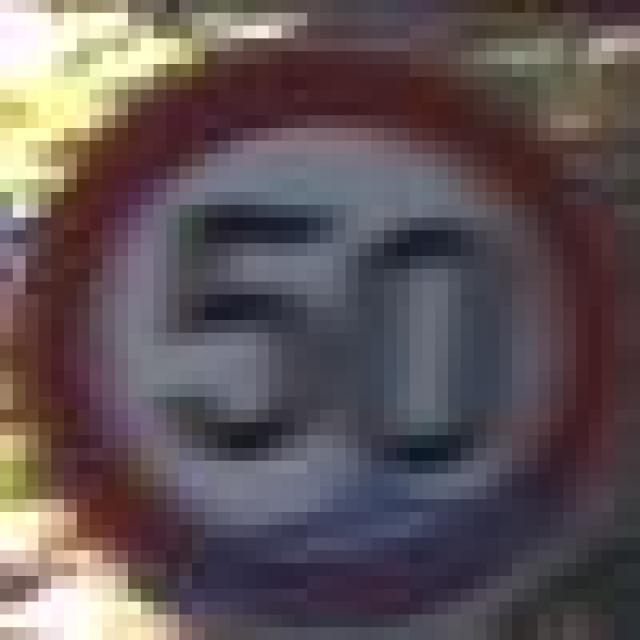SPEED_LIMIT_50: (26, 51, 588, 602)
